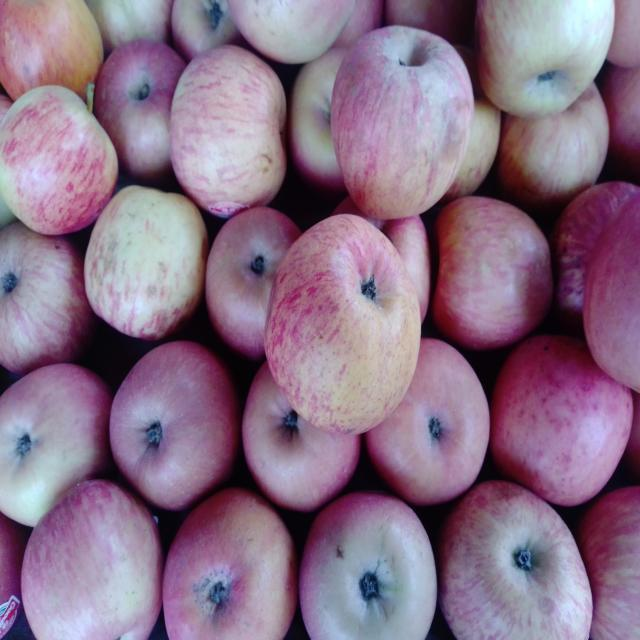Fresh Apple: (262, 213, 420, 430), (332, 27, 472, 213), (443, 485, 597, 640), (21, 481, 166, 640), (290, 495, 448, 640), (113, 333, 237, 505), (490, 337, 623, 493), (377, 337, 498, 505), (173, 45, 292, 215), (158, 493, 293, 640), (0, 78, 120, 240), (435, 182, 548, 346), (80, 186, 202, 332), (477, 0, 615, 110), (0, 368, 106, 505)
